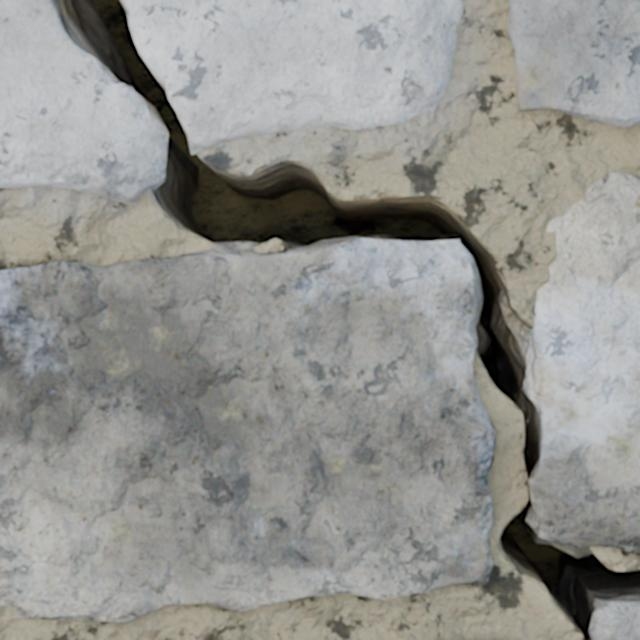broken_brick: (125, 0, 462, 153), (0, 0, 167, 202)
crack: (0, 0, 639, 639), (507, 0, 639, 127)
